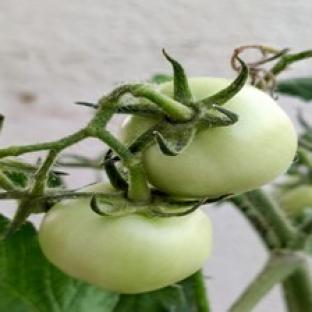Tomato: (143, 85, 296, 197), (39, 200, 211, 293), (279, 184, 311, 217)
